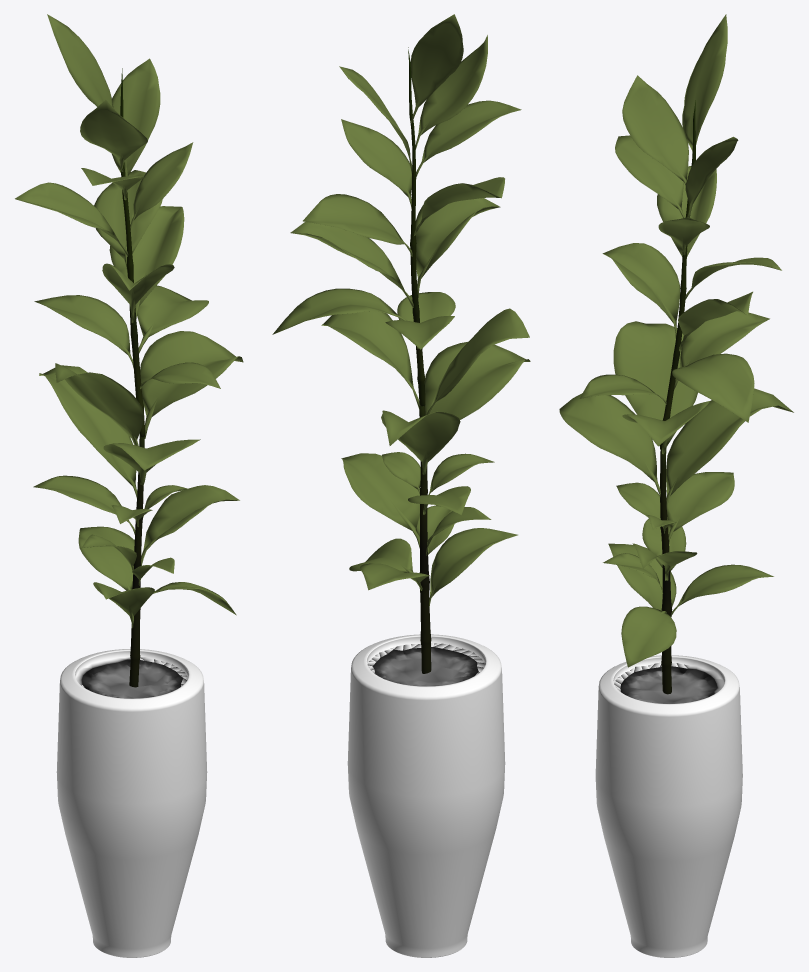
File: Ficus.fbx
3 views of the same model, side by side, from view 1: azimuth 30°, elevation 25°; view 2: azimuth 150°, elevation 25°; view 3: azimuth 270°, elevation 25° (orthographic). The views are drawn at different scales.
Visible parts, largest first — view 1: Plant_Ficus_B_spring-summer-autumn.001, Pot_Tall-Green-Concrete_A_spring-summer-autumn.001; view 2: Plant_Ficus_B_spring-summer-autumn.001, Pot_Tall-Green-Concrete_A_spring-summer-autumn.001; view 3: Plant_Ficus_B_spring-summer-autumn.001, Pot_Tall-Green-Concrete_A_spring-summer-autumn.001.
Part boxes in pixels (left/top/right/bottom): Plant_Ficus_B_spring-summer-autumn.001: left=15, top=14, right=243, bottom=687; Pot_Tall-Green-Concrete_A_spring-summer-autumn.001: left=56, top=649, right=207, bottom=957; Plant_Ficus_B_spring-summer-autumn.001: left=272, top=14, right=530, bottom=673; Pot_Tall-Green-Concrete_A_spring-summer-autumn.001: left=347, top=634, right=505, bottom=957; Plant_Ficus_B_spring-summer-autumn.001: left=559, top=14, right=793, bottom=694; Pot_Tall-Green-Concrete_A_spring-summer-autumn.001: left=595, top=655, right=742, bottom=957.
Size of the model in its own units: 53.51 by 233 by 55.09.
